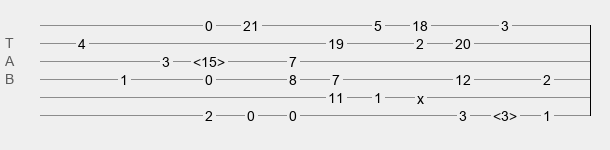0: (205, 72, 213, 82), (205, 18, 213, 28), (247, 108, 255, 118), (289, 108, 297, 118)
1: (120, 72, 128, 82), (374, 90, 382, 100), (543, 108, 551, 118)
11: (328, 90, 344, 100)
12: (455, 72, 471, 82)
18: (412, 18, 428, 28)
19: (328, 36, 344, 46)
2: (205, 108, 213, 118), (416, 36, 424, 46), (543, 72, 551, 82)
20: (455, 36, 471, 46)
21: (243, 18, 259, 28)
3: (162, 54, 170, 64), (459, 108, 467, 118), (501, 18, 509, 28)
4: (78, 36, 86, 46)
5: (374, 18, 382, 28)
7: (289, 54, 297, 64), (332, 72, 340, 82)
8: (289, 72, 297, 82)
harmonic: (193, 54, 225, 64), (493, 108, 517, 118)
x: (417, 91, 424, 99)
